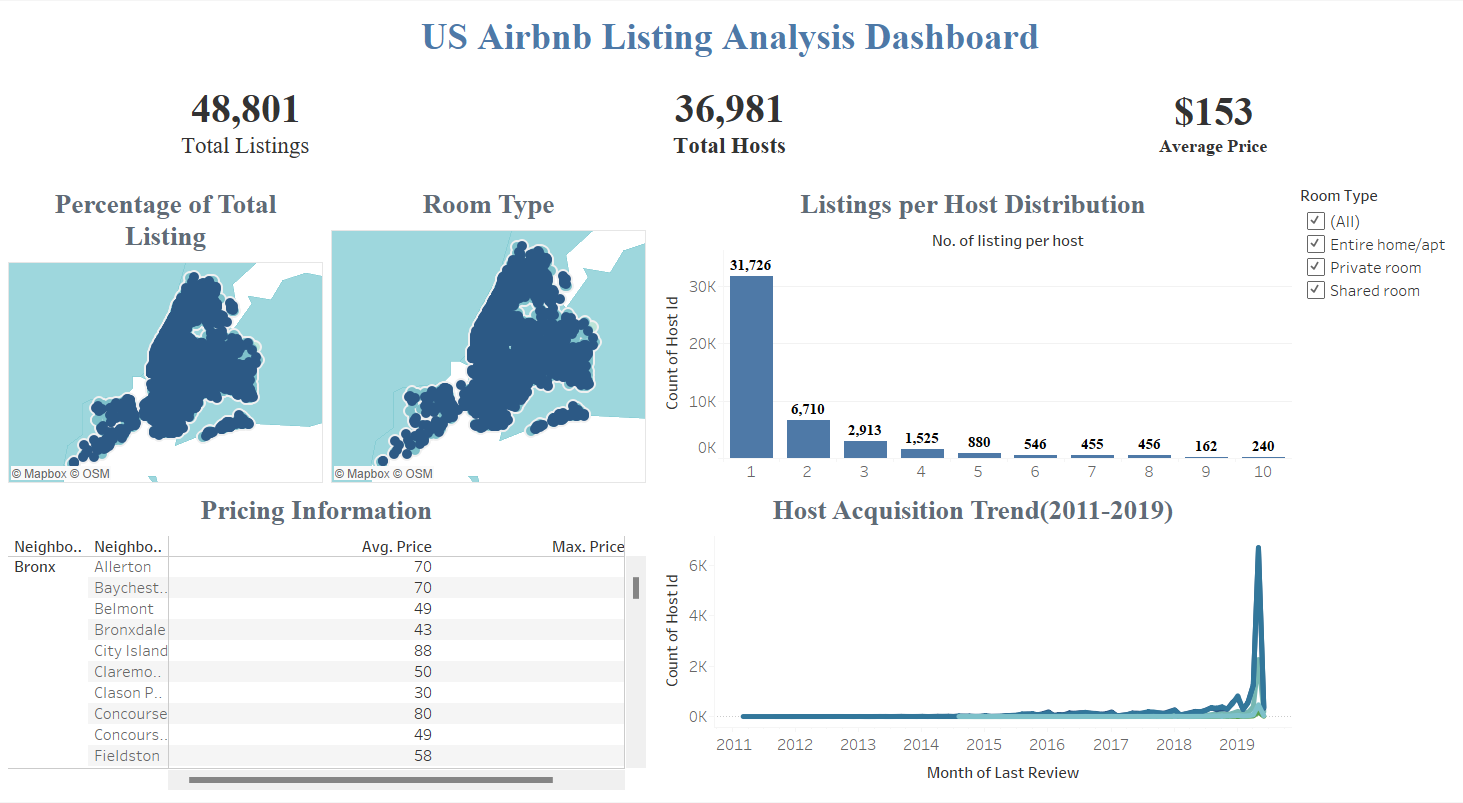

The dashboard page shown, as its layout file describes it:
{"tool":"tableau","page":{"name":"Dashboard 1","canvas":[1000,1000],"units":"permille","ordinal":0},"visuals":[{"type":"title","box":[5.5,10,989.1,69.9]},{"type":"worksheet","title":"KPI Total Listing","mark":"Automatic","box":[5.5,79.9,329.7,144.8]},{"type":"worksheet","title":"KPI Total Hosts","mark":"Automatic","box":[335.2,79.9,329.7,144.8]},{"type":"worksheet","title":"KPI avg price","mark":"Automatic","box":[664.9,79.9,329.7,144.8]},{"type":"worksheet","title":"Percentage of total listing","mark":"Automatic","rows":["latitude"],"cols":["longitude"],"box":[5.5,224.7,220,382.6]},{"type":"worksheet","title":"Room Type","mark":"Automatic","rows":["latitude"],"cols":["longitude"],"box":[225.5,224.7,220,382.6]},{"type":"worksheet","title":"Hosting Frequency","mark":"Automatic","rows":["host_id"],"cols":["Calculation_5737023018567872512"],"box":[445.5,224.7,440.1,382.6]},{"type":"filter","title":"Room Type","param":"[federated.0heybf41ehet3813d51ky147j9pc].[none:room_type:nk]","box":[885.6,224.7,109,159.8]},{"type":"worksheet","title":"Pricing Informatiom","mark":"Automatic","rows":["neighbourhood_group","neighbourhood"],"box":[5.5,607.3,440.1,382.7]},{"type":"worksheet","title":"Host Acq Rate","mark":"Automatic","rows":["host_id"],"cols":["last_review"],"box":[445.5,607.3,440.1,382.7]}]}

Visuals, with their boxes on the dashboard's canvas, which has no fixed pixel size, in thousandths of its width and height (x1, y1, x2, y2). These are canvas units, not pixel positions in the 1463x803 screenshot, which may show the page scaled, cropped or inside an application window:
title: (6,10,995,80)
"KPI Total Listing" worksheet: (6,80,335,225)
"KPI Total Hosts" worksheet: (335,80,665,225)
"KPI avg price" worksheet: (665,80,995,225)
"Percentage of total listing" worksheet: (6,225,226,607)
"Room Type" worksheet: (226,225,446,607)
"Hosting Frequency" worksheet: (446,225,886,607)
"Room Type" filter: (886,225,995,384)
"Pricing Informatiom" worksheet: (6,607,446,990)
"Host Acq Rate" worksheet: (446,607,886,990)
